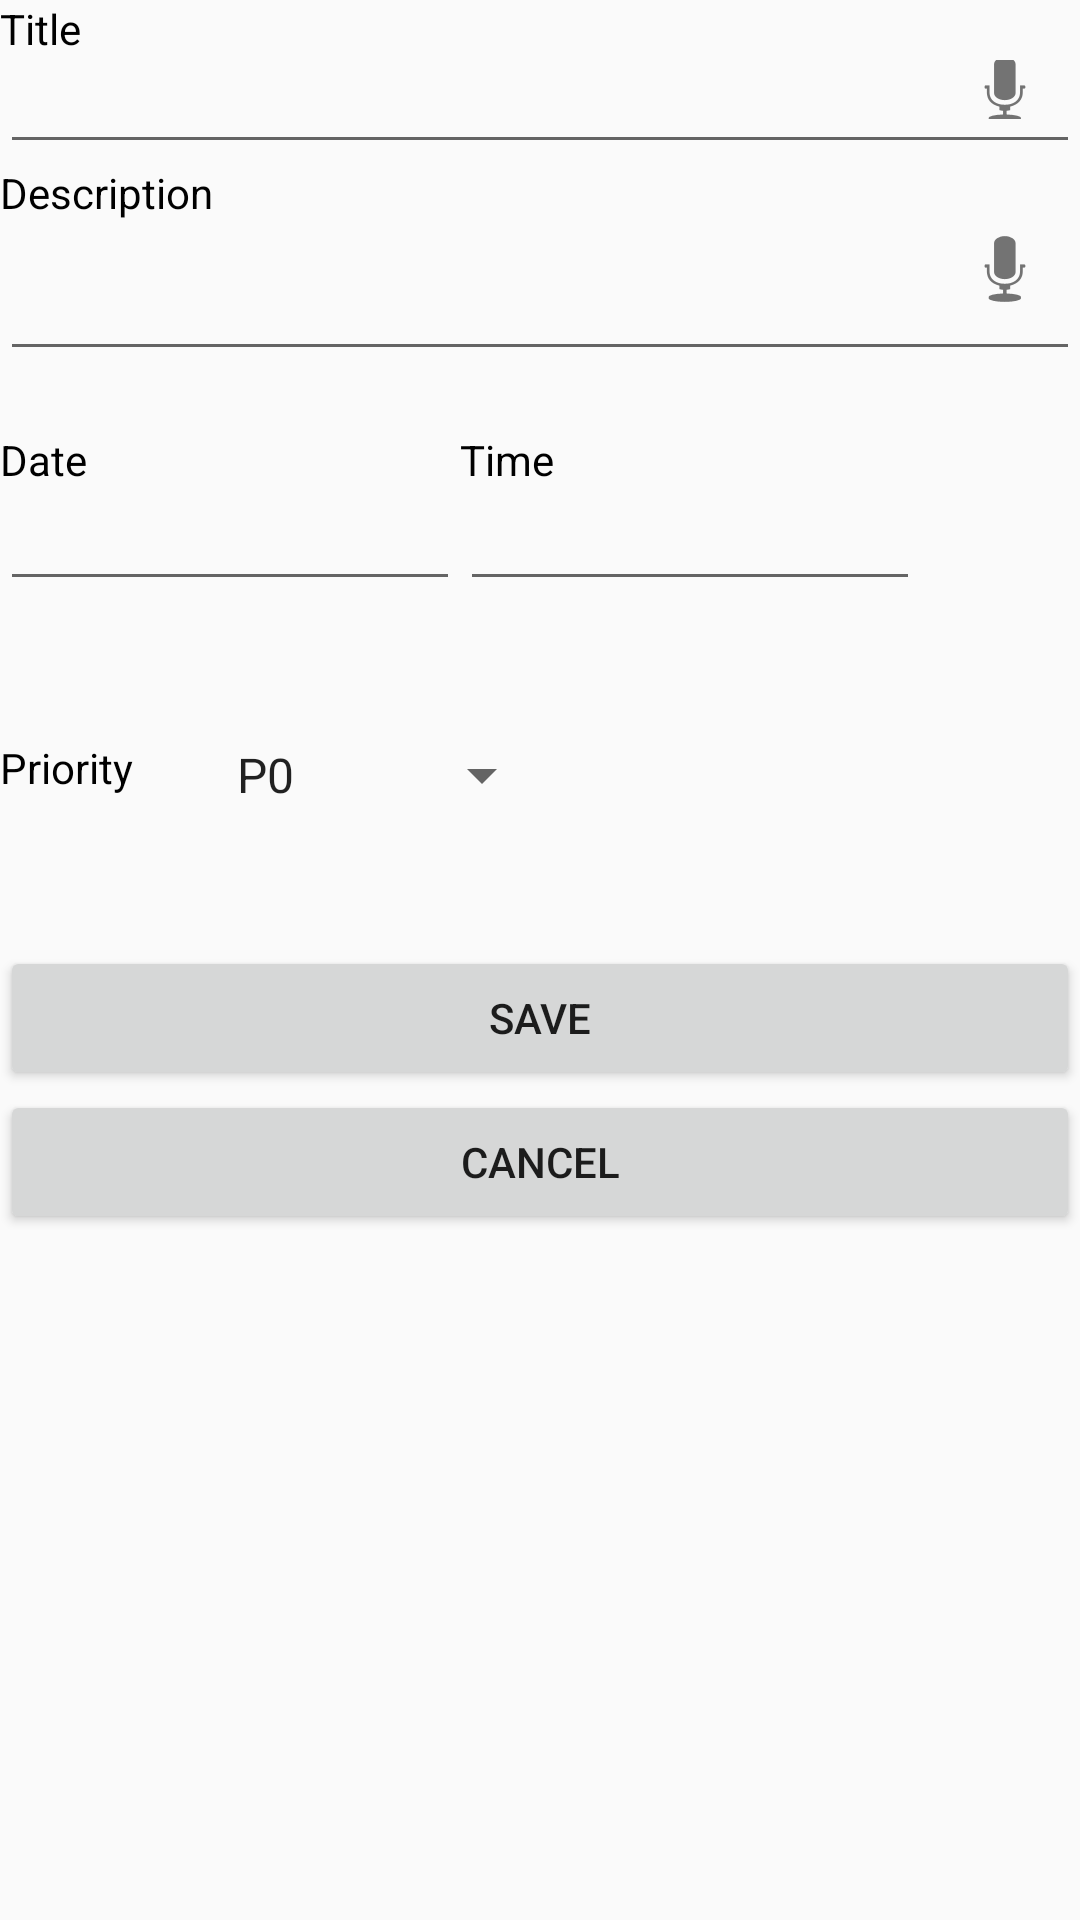

Icons on this 1080 x 1920 Android screen, each with the point to tap as (x,y):
speak now: (1005,89), (1005,269)
